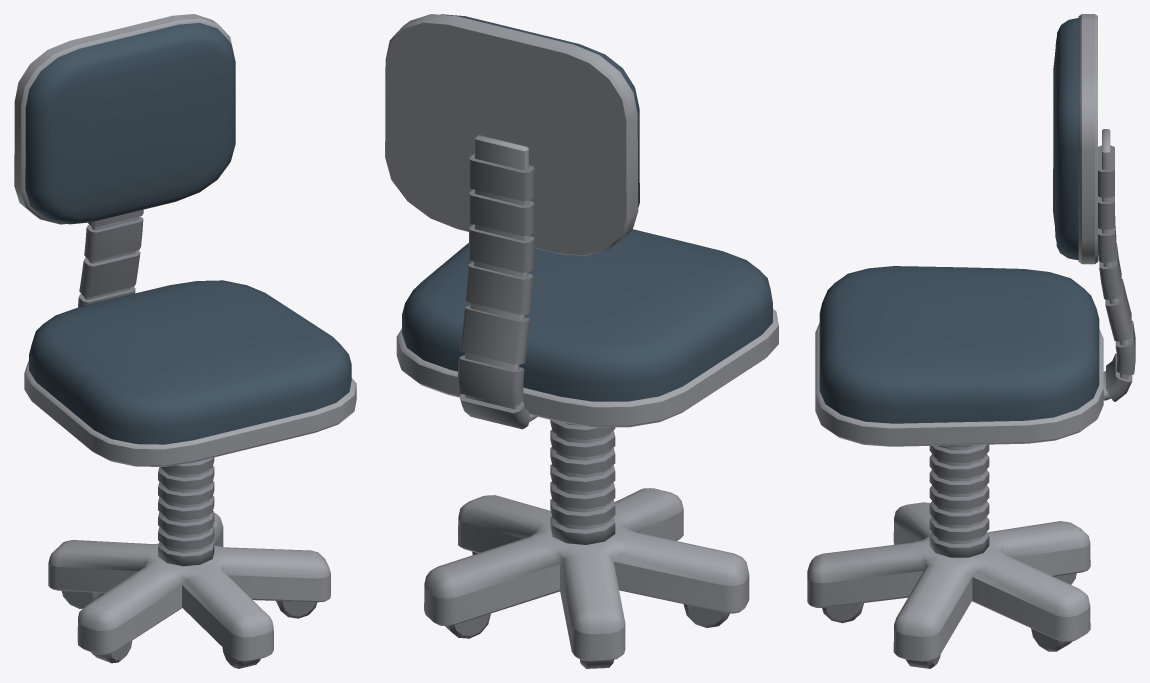
Rendered from Computer_chair.fbx.
The picture shows the model from 3 angles, left to right: view 1: azimuth 30°, elevation 25°; view 2: azimuth 150°, elevation 25°; view 3: azimuth 270°, elevation 25°; orthographic projection. The views are drawn at different scales.
Parts seen in each view (by area): view 1: Computer_chair; view 2: Computer_chair; view 3: Computer_chair.
Part boxes in pixels (<box>): Computer_chair: <box>14,14,356,668</box>; Computer_chair: <box>385,14,778,668</box>; Computer_chair: <box>807,14,1135,668</box>.
Bounding box in the file's own units: 0.443 × 0.9085 × 0.4731.
